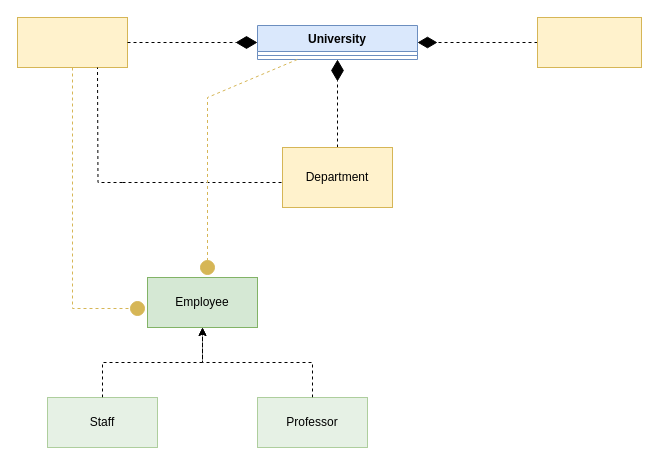
Image size: 659x465. Some labels were removed from this diagram. The centre of each missing label's shape, as x and y in pixels:
"Clasroom" goes at [589,42].
"Office" goes at [72,42].
